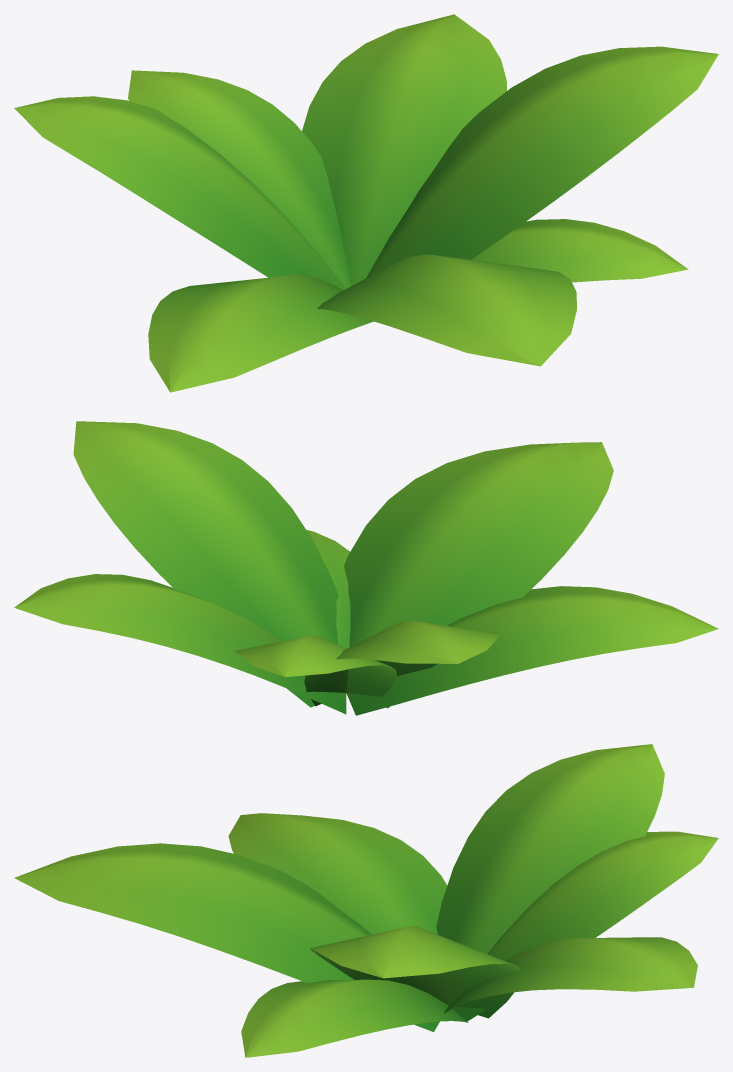
The model's file is plant_broadleaf_a.glb.
3 views of the same model, one above another, from view 1: azimuth 30°, elevation 25°; view 2: azimuth 150°, elevation 25°; view 3: azimuth 270°, elevation 25° (orthographic). The views are drawn at different scales.
Parts seen in each view (by area): view 1: plant_broadleaf_a; view 2: plant_broadleaf_a; view 3: plant_broadleaf_a.
Part boxes in pixels (bbox=[...]): plant_broadleaf_a: bbox=[14, 14, 718, 392]; plant_broadleaf_a: bbox=[14, 421, 718, 715]; plant_broadleaf_a: bbox=[14, 744, 718, 1057].
Size of the model in its own units: 1.43 by 0.4503 by 1.5.
